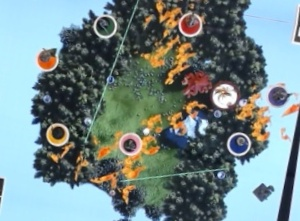blue: (223, 128, 253, 159)
green: (91, 10, 119, 41)
orange: (34, 47, 62, 74)
pink: (116, 128, 146, 159)
red: (176, 8, 206, 38)
violet: (264, 82, 293, 109)
yellow: (42, 117, 73, 148)
